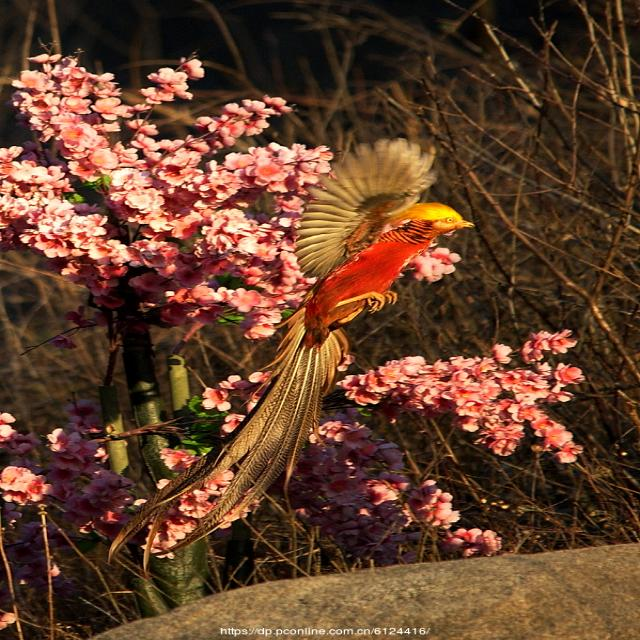Chrysolophus pictus feather: (109, 307, 347, 559)
